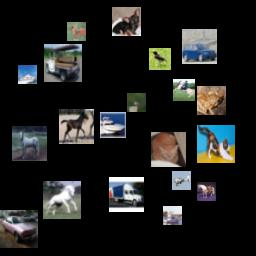airplane: (172, 171, 191, 190)
automobile: (0, 210, 38, 248), (182, 29, 217, 64)
bird: (149, 48, 171, 70), (127, 93, 146, 112)
cat: (197, 125, 235, 163), (151, 132, 186, 167)
deer: (67, 22, 86, 41)
dog: (112, 7, 141, 36)
frog: (197, 86, 226, 115)
ship: (100, 112, 126, 138), (18, 65, 37, 84), (163, 206, 182, 225)
truck: (44, 44, 82, 82), (109, 177, 144, 212)
